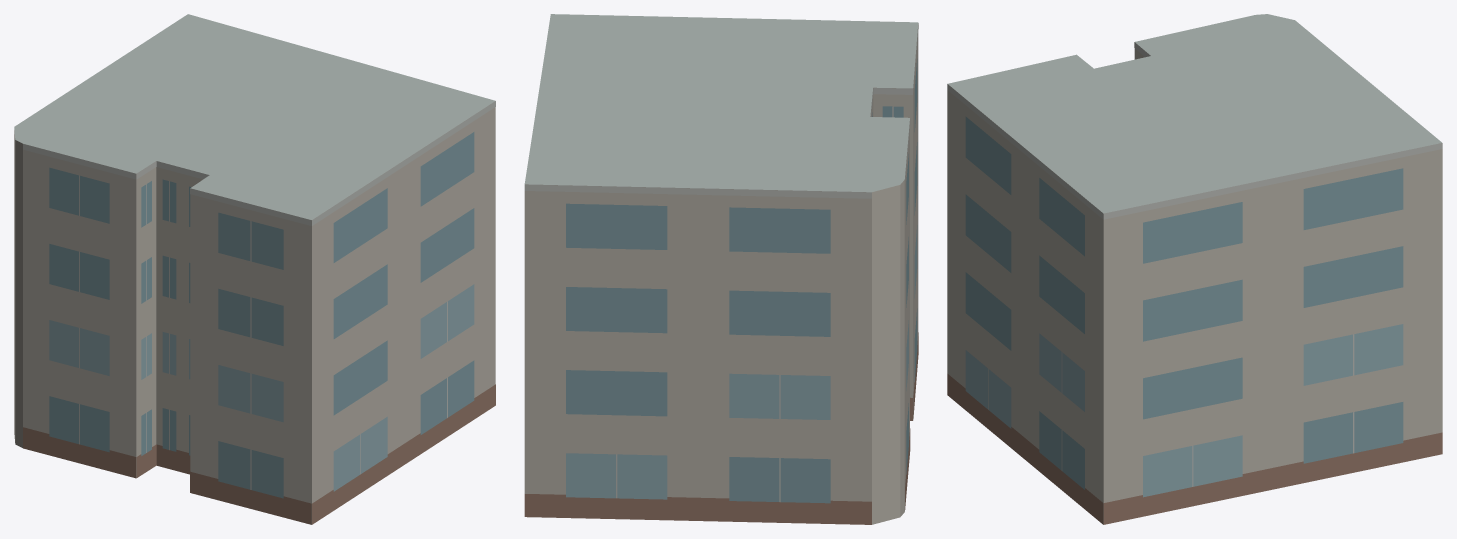
Rendered from survey-upis-32822721.glb.
The picture shows the model from 3 angles, left to right: view 1: azimuth 30°, elevation 25°; view 2: azimuth 150°, elevation 25°; view 3: azimuth 270°, elevation 25°; orthographic projection. The views are drawn at different scales.
Parts seen in each view (by area): view 1: survey-upis-32822721.tmp; view 2: survey-upis-32822721.tmp; view 3: survey-upis-32822721.tmp.
Part boxes in pixels (<box>): survey-upis-32822721.tmp: <box>14,14,495,524</box>; survey-upis-32822721.tmp: <box>524,14,918,524</box>; survey-upis-32822721.tmp: <box>947,14,1442,524</box>.
Bounding box in the file's own units: 17.06 × 12.4 × 17.88.
